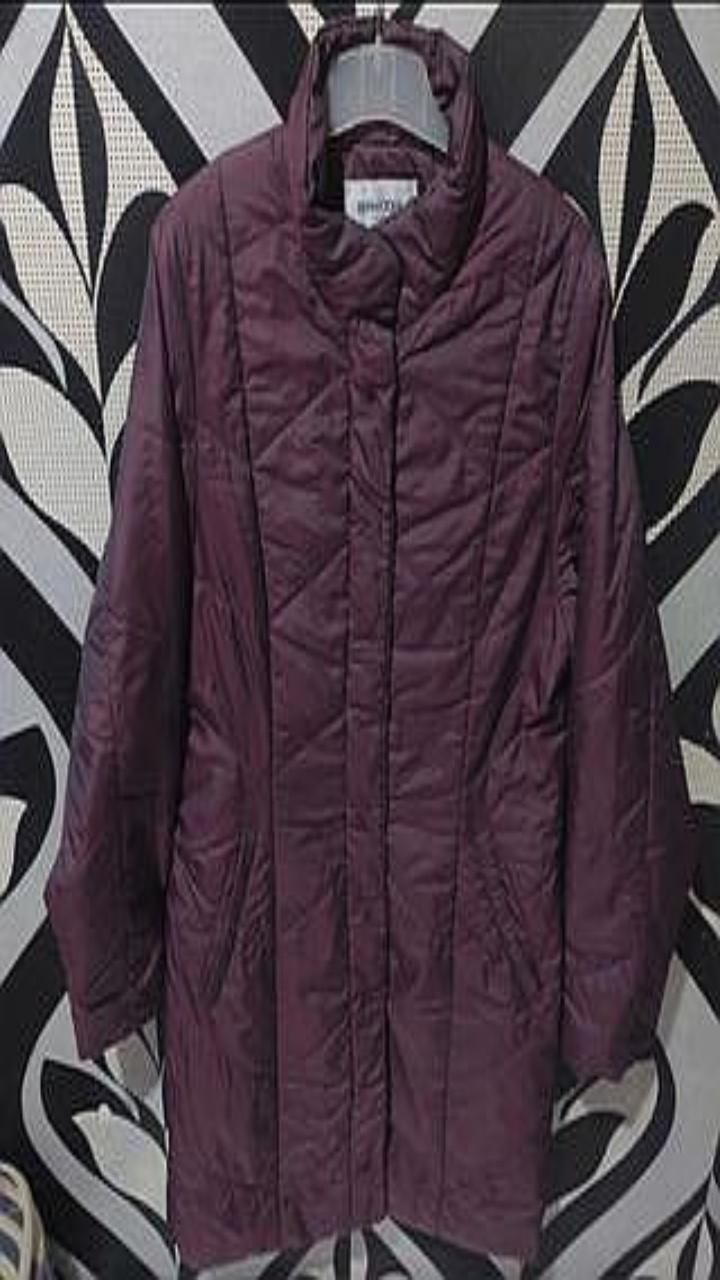Coat: (45, 16, 698, 1266)
